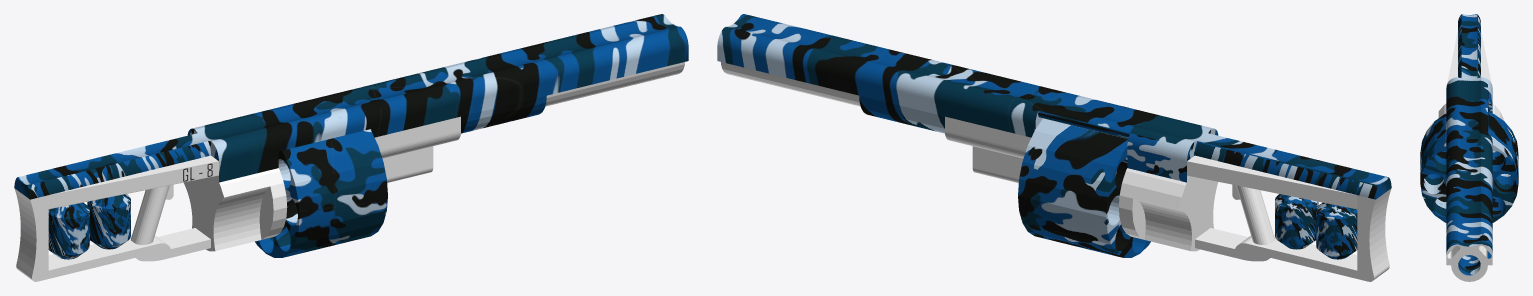
Rendered from Lanzagranadas_bluecamo.FBX.
3 views of the same model, side by side, from view 1: azimuth 30°, elevation 25°; view 2: azimuth 150°, elevation 25°; view 3: azimuth 270°, elevation 25° (orthographic). The views are drawn at different scales.
Parts seen in each view (by area): view 1: Skin, Group1, Cargador, Etiqueta; view 2: Skin, Group1, Cargador; view 3: Skin, Cargador, Group1.
Part boxes in pixels (<box>): Skin: <box>14,14,688,259</box>; Group1: <box>14,62,684,281</box>; Cargador: <box>255,129,387,257</box>; Etiqueta: <box>48,161,218,209</box>; Skin: <box>717,14,1391,259</box>; Group1: <box>721,62,1391,281</box>; Cargador: <box>1018,118,1150,257</box>; Skin: <box>1446,14,1492,275</box>; Cargador: <box>1420,112,1518,222</box>; Group1: <box>1438,31,1503,281</box>.
Size of the model in its own units: 8.05 by 1.58 by 1.44.
3 materials, 2 textured.
